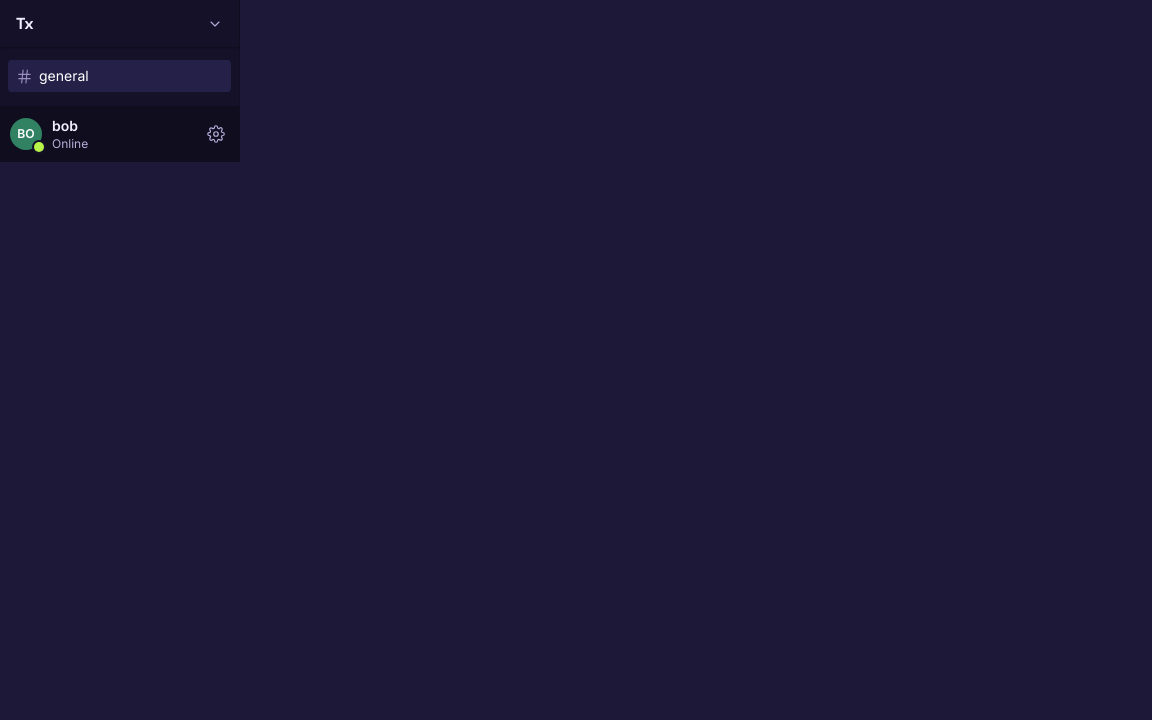
Test case: cancelling the confirmation does nothing; confirming leaves
Click the button "Tx" at (120, 24), box [8,0,231,47]
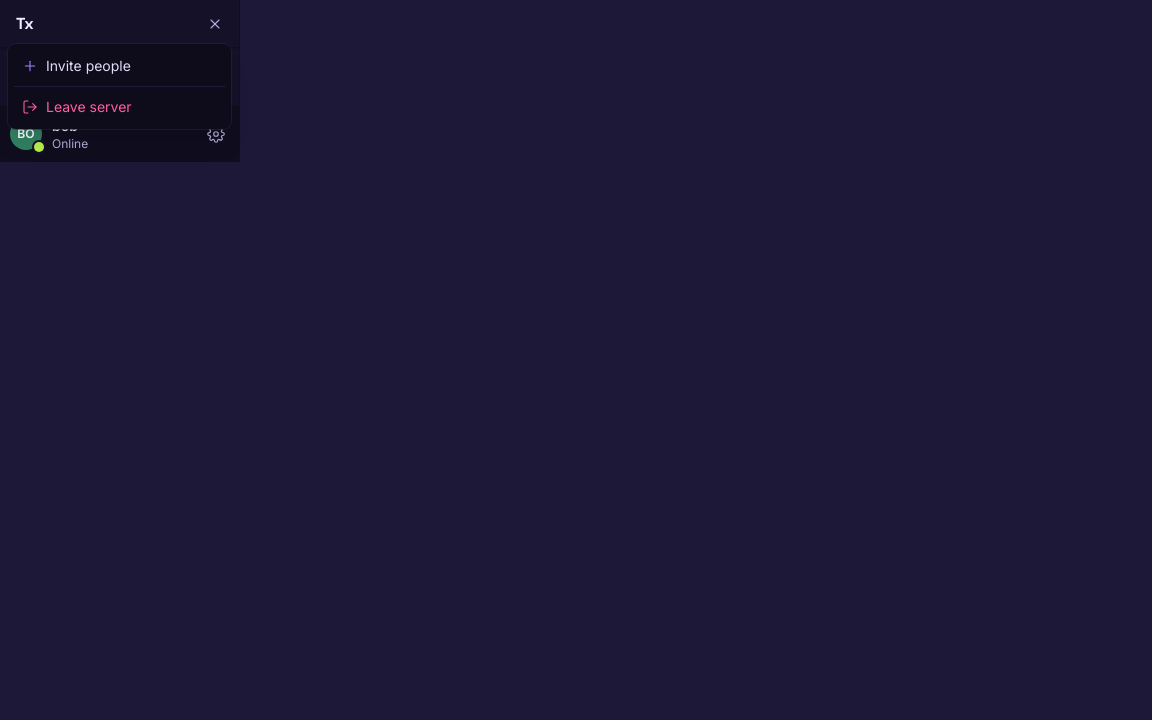
Click the button "Leave server" at (120, 107), box [14,91,225,123]
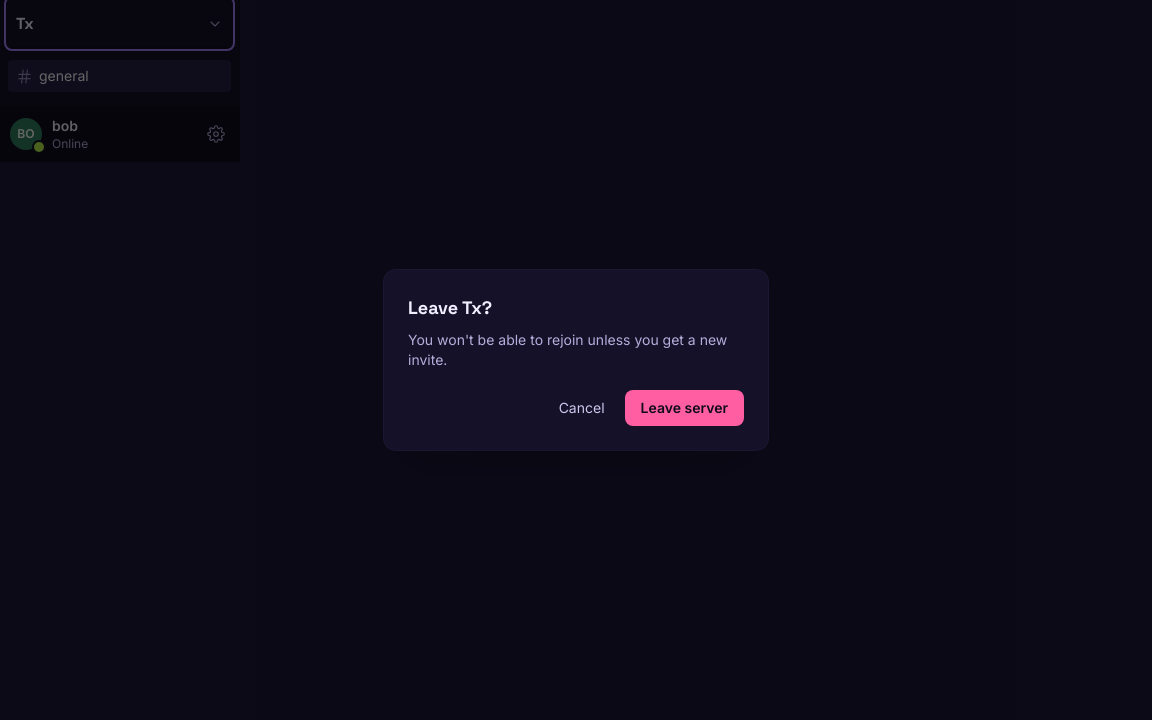
Expected: the dialog "Leave Tx?" shows "new invite", [408,331,727,368]
Click the button "Cancel" at (582, 408), box [547,390,616,426]
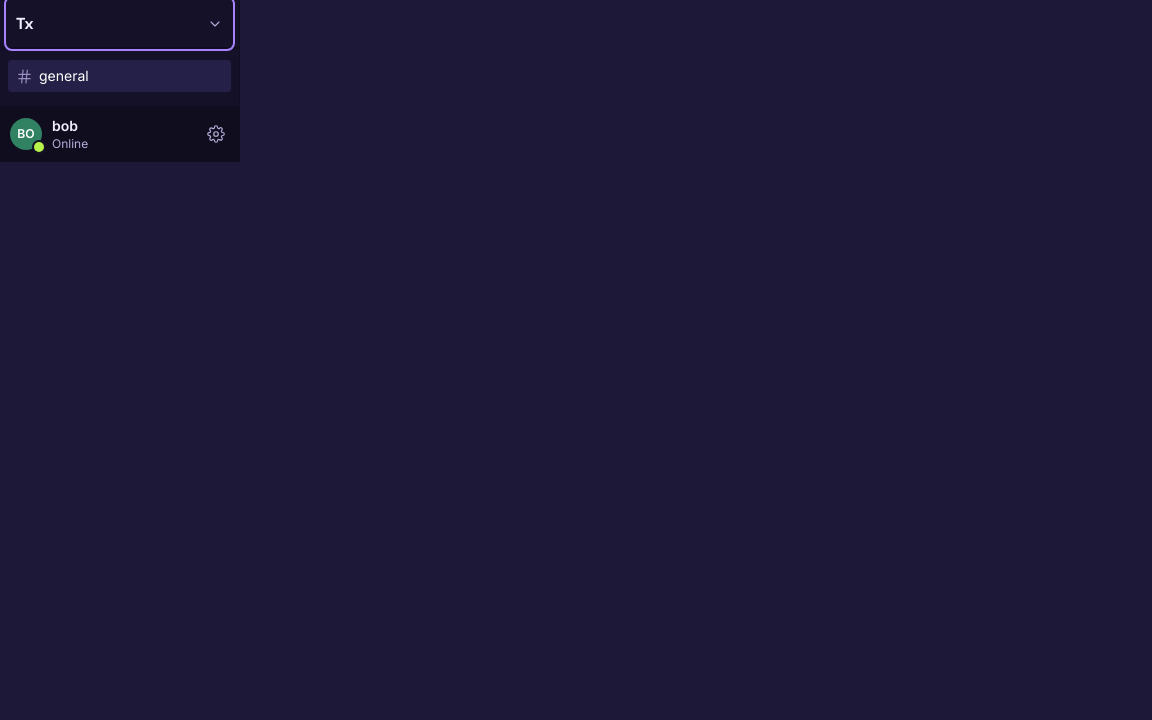
Expected: the dialog is gone
Click the button "Tx" at (120, 24), box [8,0,231,47]
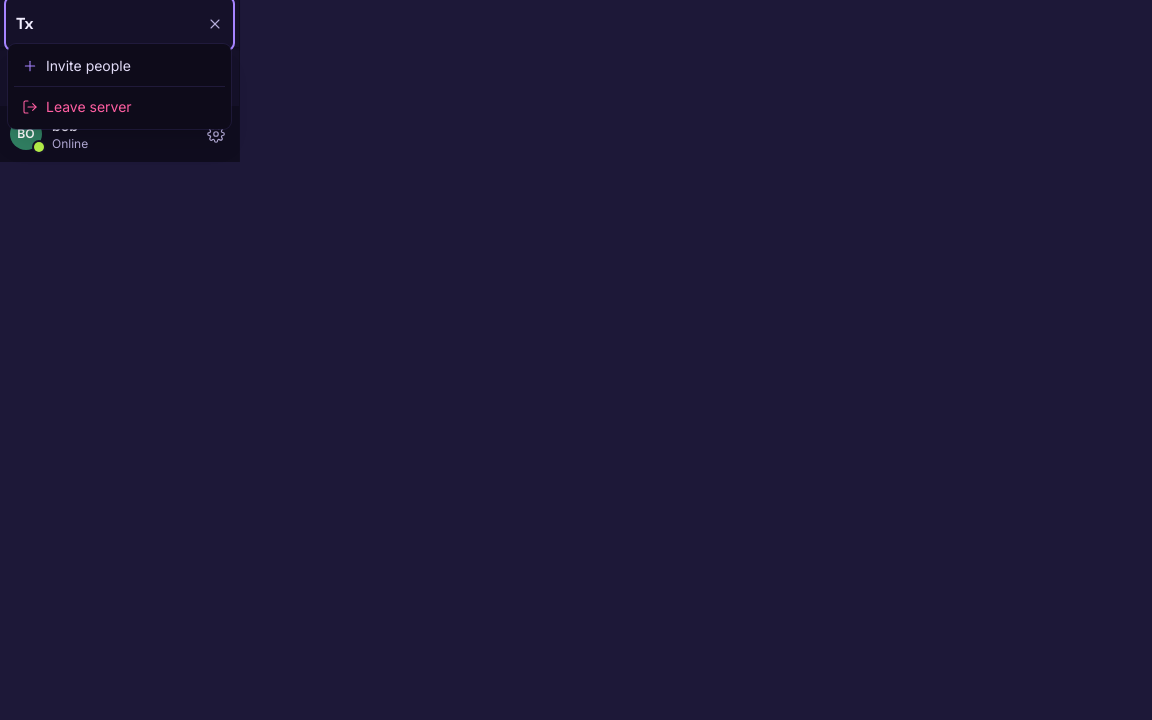
Click the button "Leave server" at (120, 107), box [14,91,225,123]
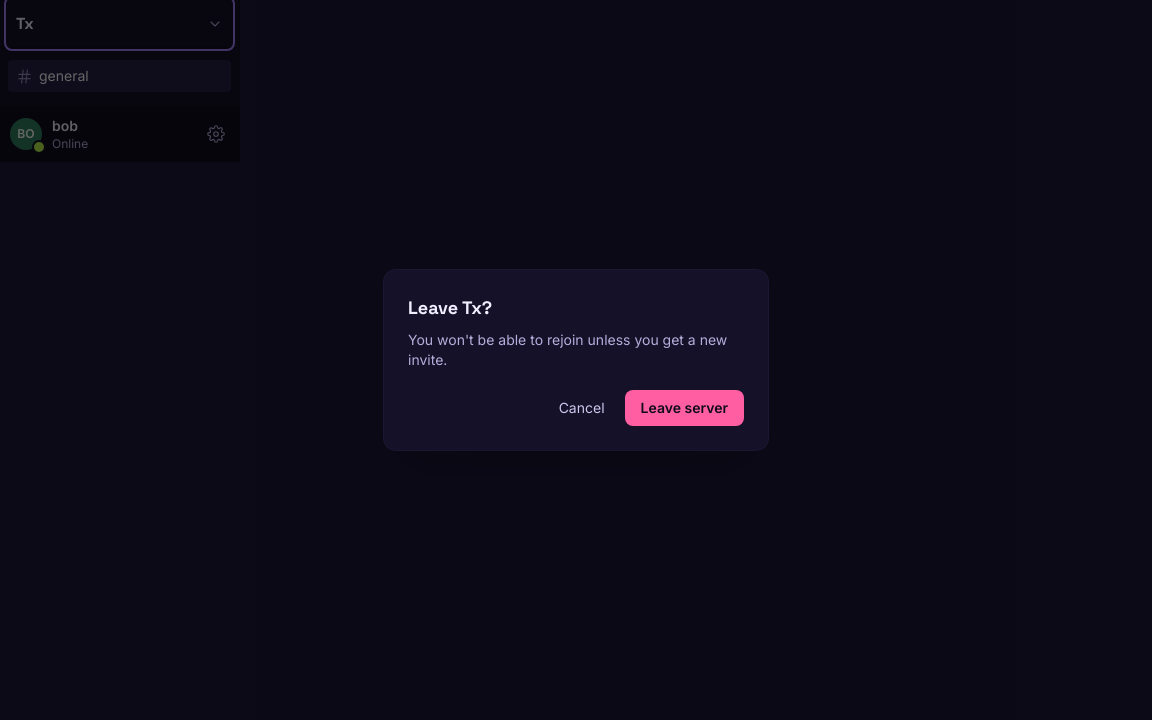
Click the button "Leave server" at (684, 408), box [624,390,744,426]
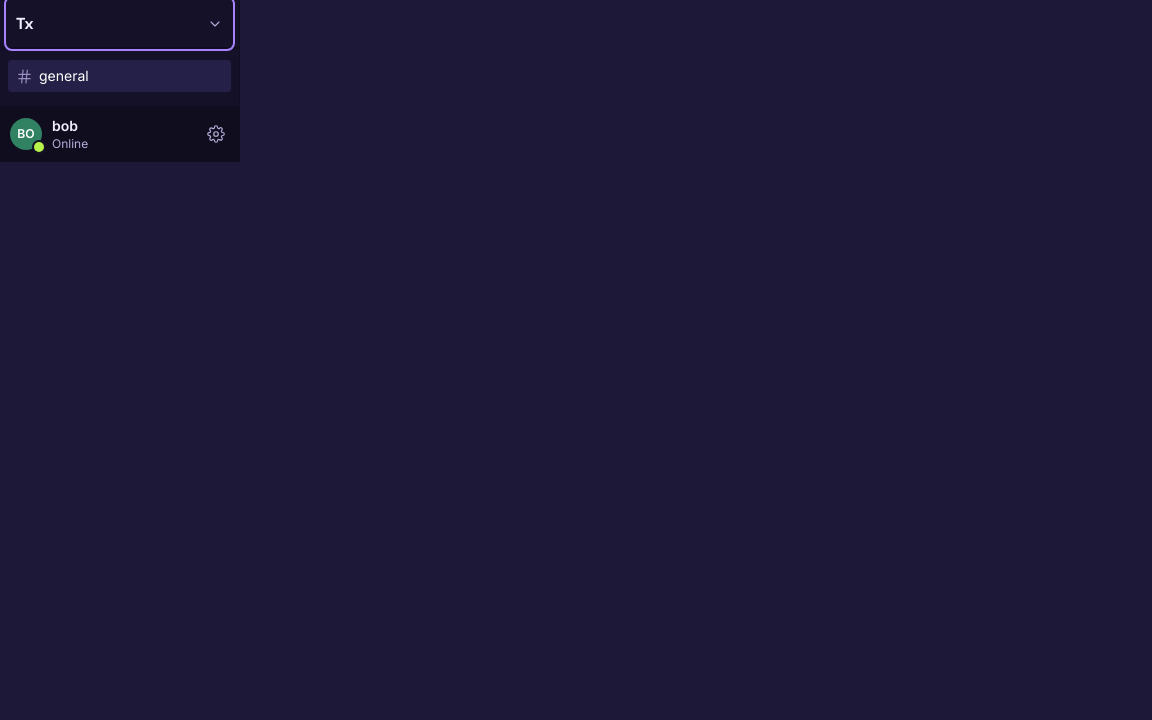
Expected: the dialog is gone
